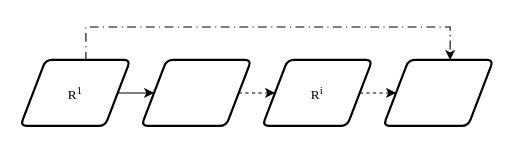
Image size: 513x146. Some labels were removed from this diagram. Each missing label, with the box of its shape:
R 2: (140, 58, 252, 127)
R m: (382, 58, 494, 127)
